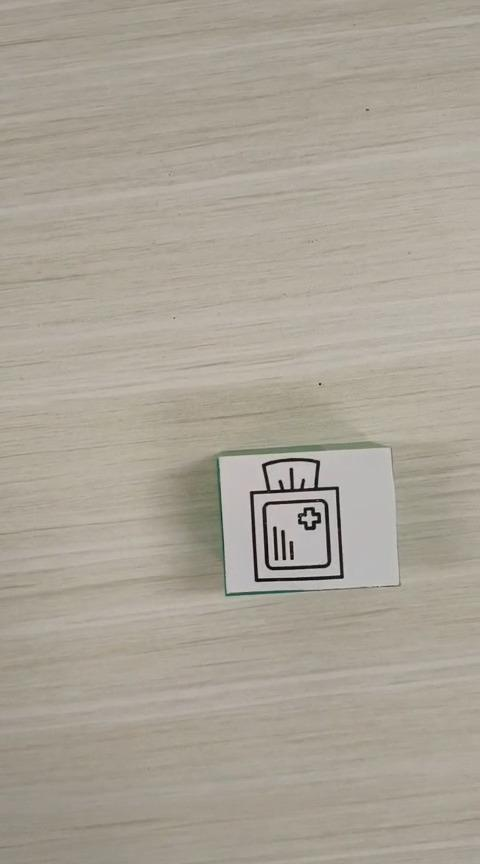Gauze: (215, 440, 400, 596)
